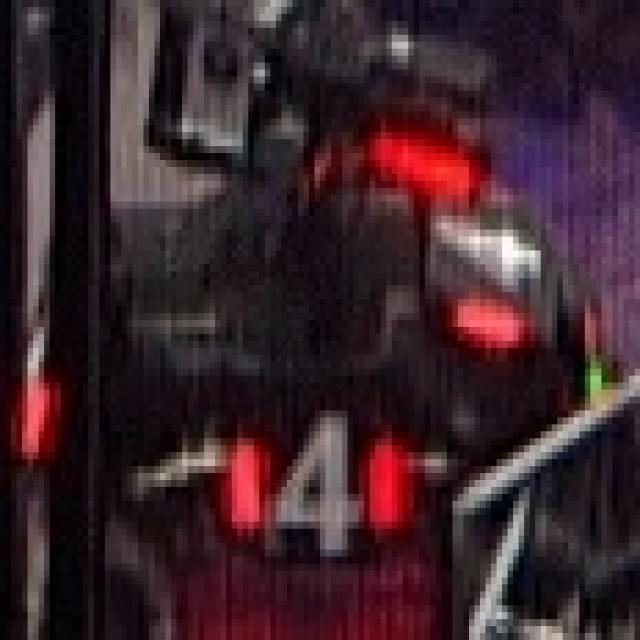R4: (210, 404, 430, 564), (433, 157, 549, 358)
